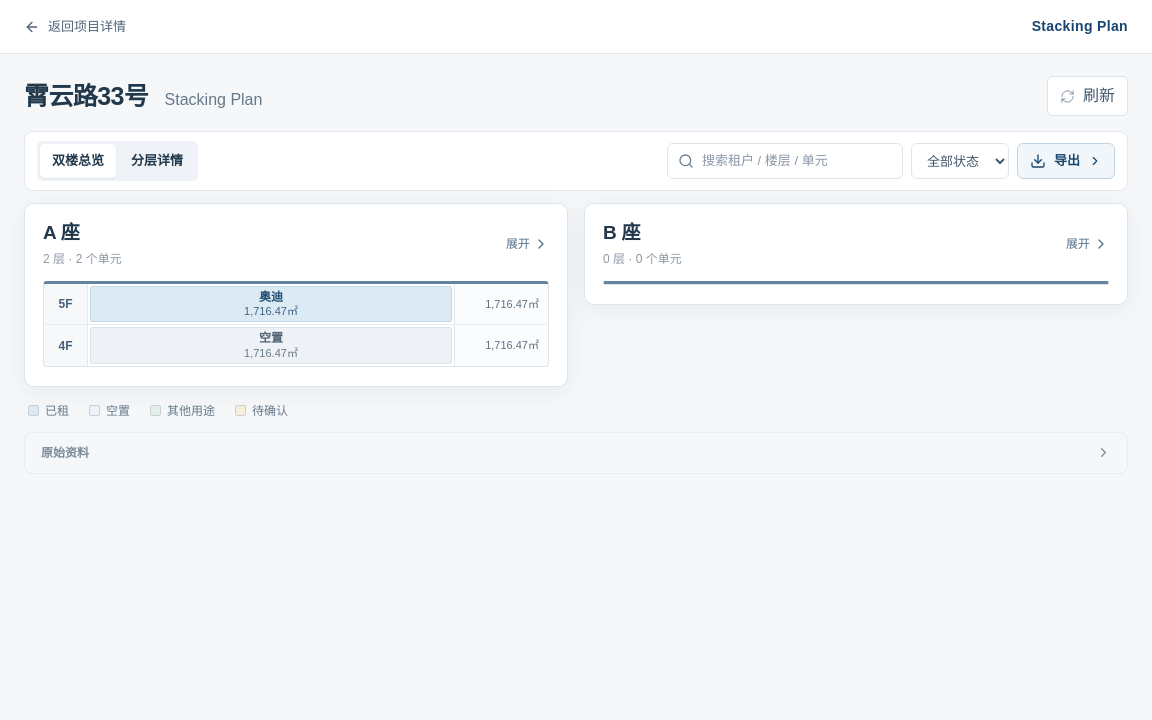
Test: Stacking Plan actual workspace focus continuity › reports zero matching units while preserving floor navigation
The width and height of the screenshot is (1152, 720).
In the search field named "搜索租户、楼层或单元": (797, 161) [702,151,892,171], type "不存在的租户名称"
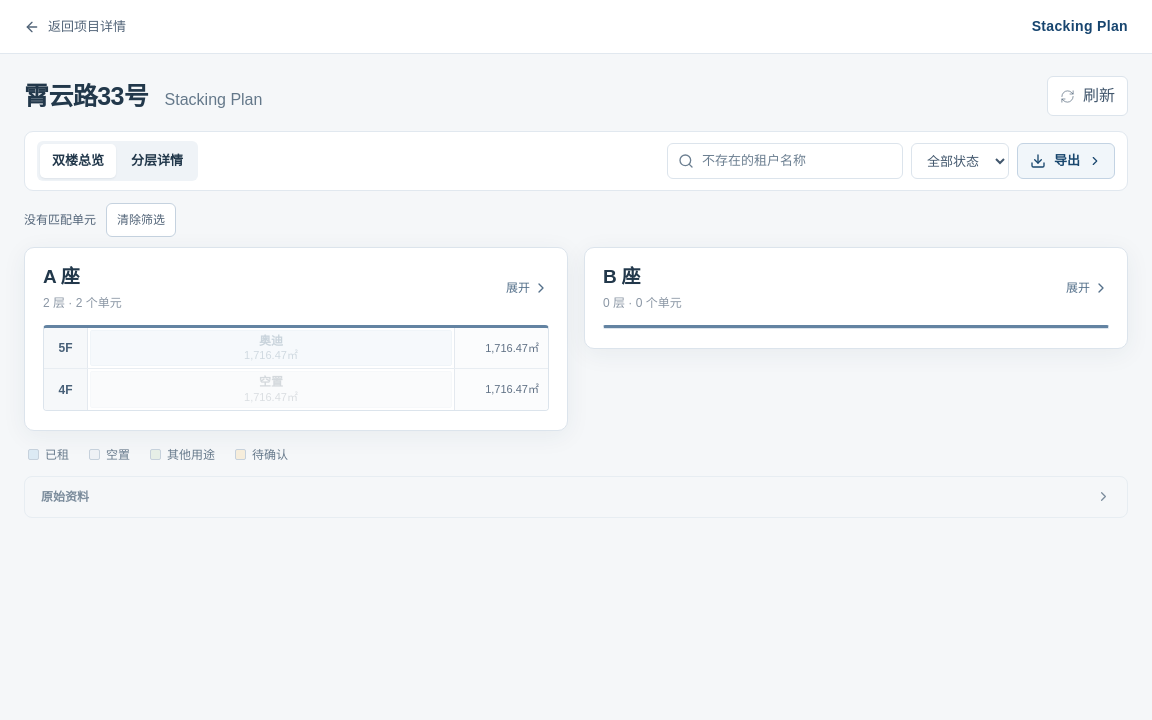
Check: the button "奥迪 1,716.47㎡" is shown, box [90,330,452,366]
Check: the text "没有匹配单元" is shown, box [24,211,96,229]
Click the button "清除筛选": (141, 220) [106,203,176,237]
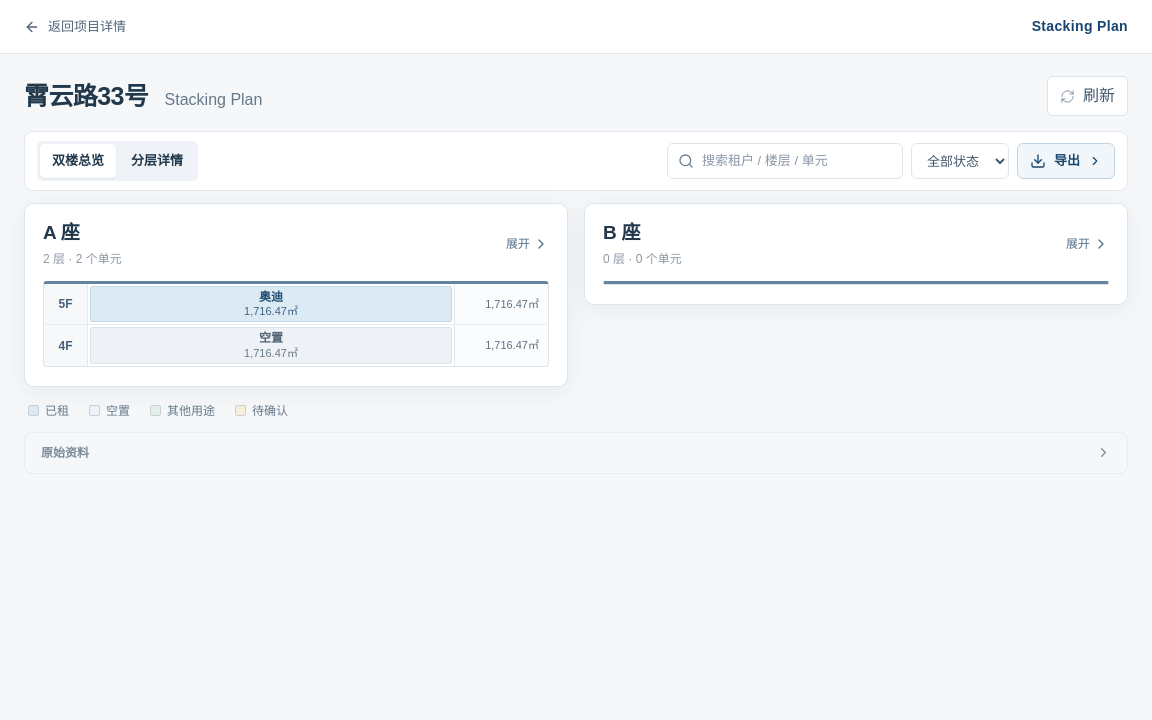
Check: the search field named "搜索租户、楼层或单元" is empty, box [702,151,892,171]
